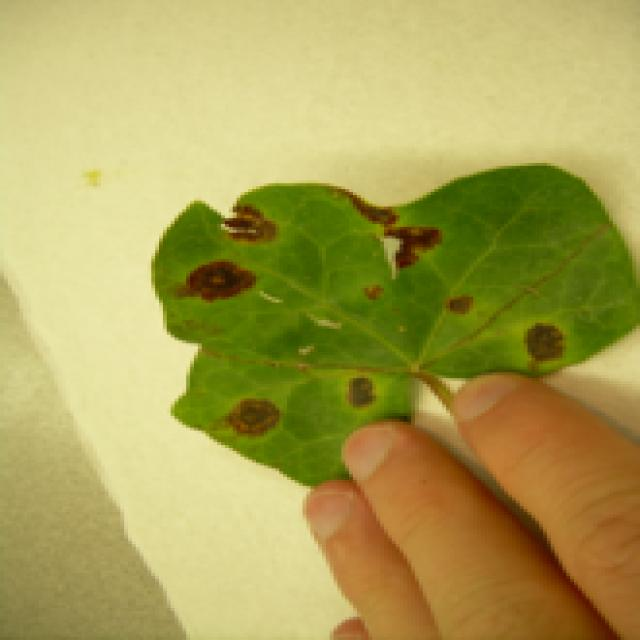Bacterial Blight: (162, 186, 484, 384)
